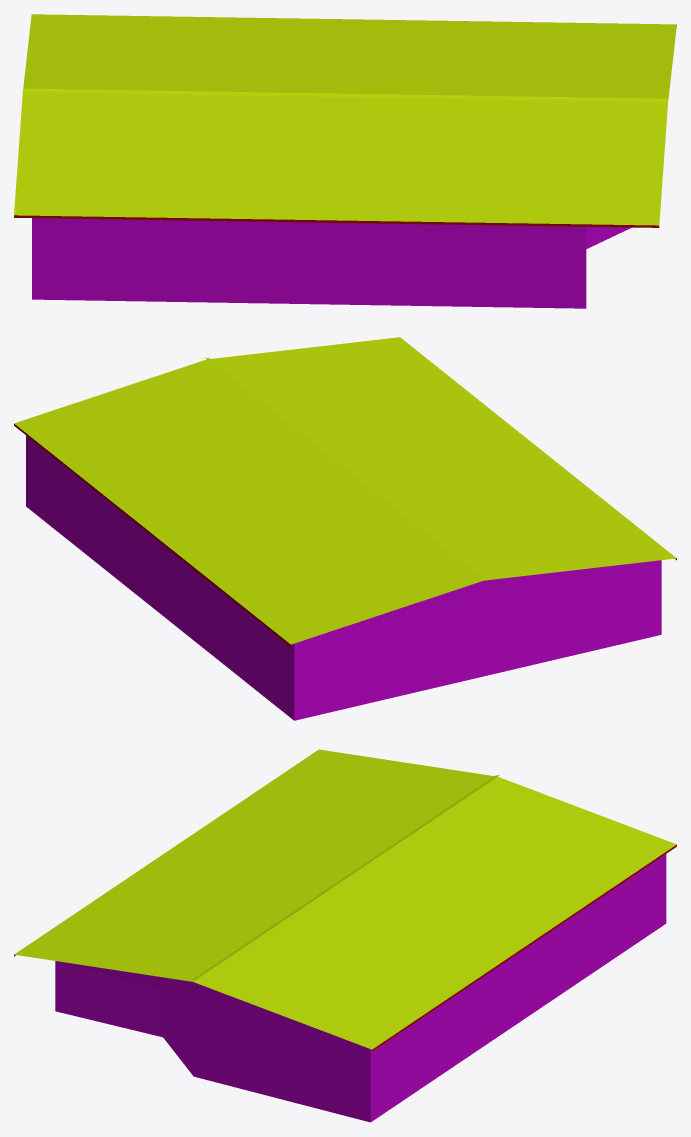
Rendered from bgj_115.glb.
3 renders of one model, top to bottom at view 1: azimuth 30°, elevation 25°; view 2: azimuth 150°, elevation 25°; view 3: azimuth 270°, elevation 25°, orthographic. The views are drawn at different scales.
Visible parts, largest first — view 1: bgj_115; view 2: bgj_115; view 3: bgj_115.
Boxes of the visible parts, box(x1,y1,x2,y2) form: bgj_115: box(14, 14, 676, 308); bgj_115: box(14, 337, 676, 720); bgj_115: box(14, 749, 676, 1122).
Bounding box in the file's own units: 36.32 × 5.67 × 33.9.
